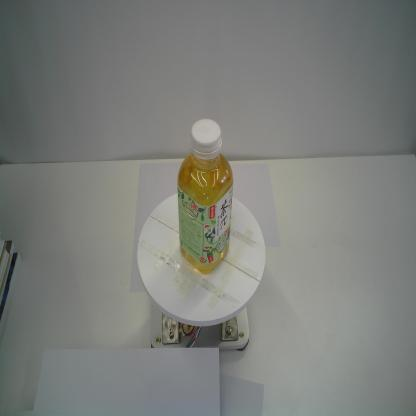Drink: (176, 118, 235, 276)
